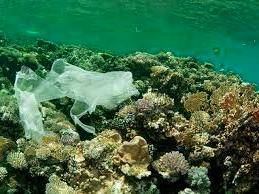Trash: (47, 55, 141, 115)
